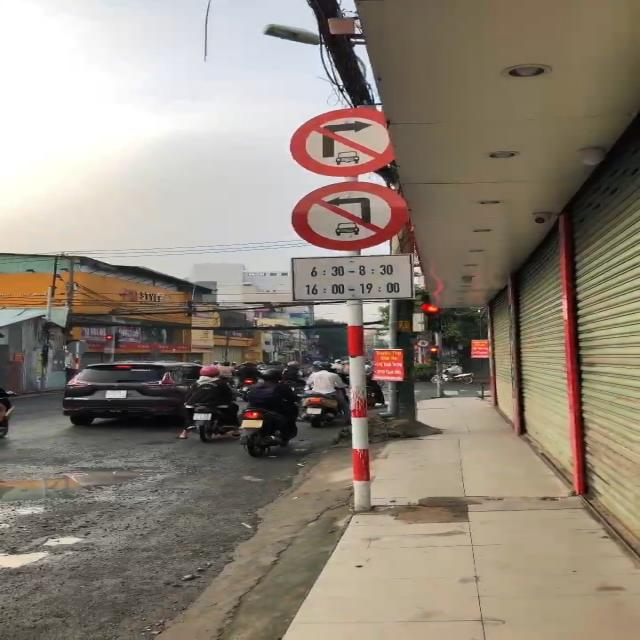Bien bao cam xe o to re phai: (280, 106, 411, 177)
Bien bao cam xe o to re trai: (286, 179, 422, 251)
